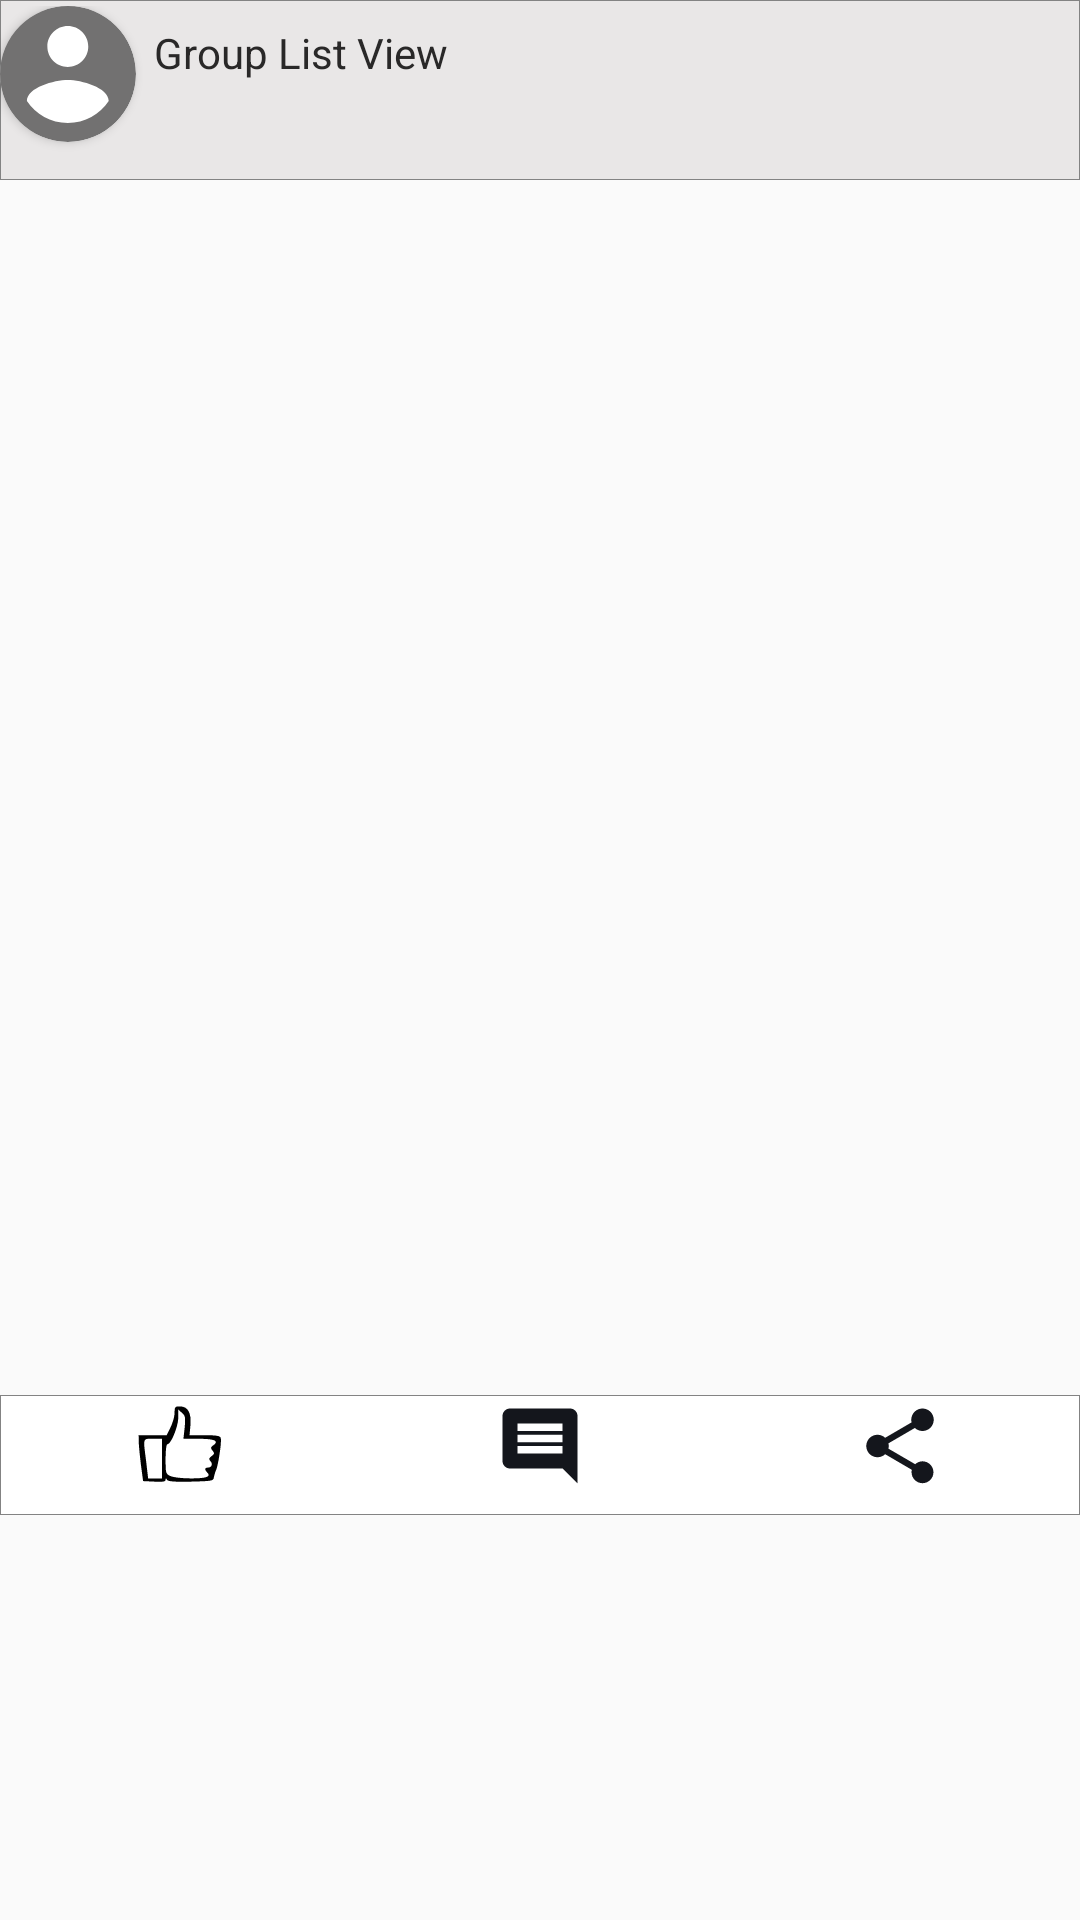

Icon bounding boxes for this 1080px x 1920px phone screenshot, format (x1, y1, x2, y2):
facebook like: (138, 1406, 221, 1482)
insert comment: (502, 1408, 578, 1483)
share: (866, 1408, 934, 1484)
